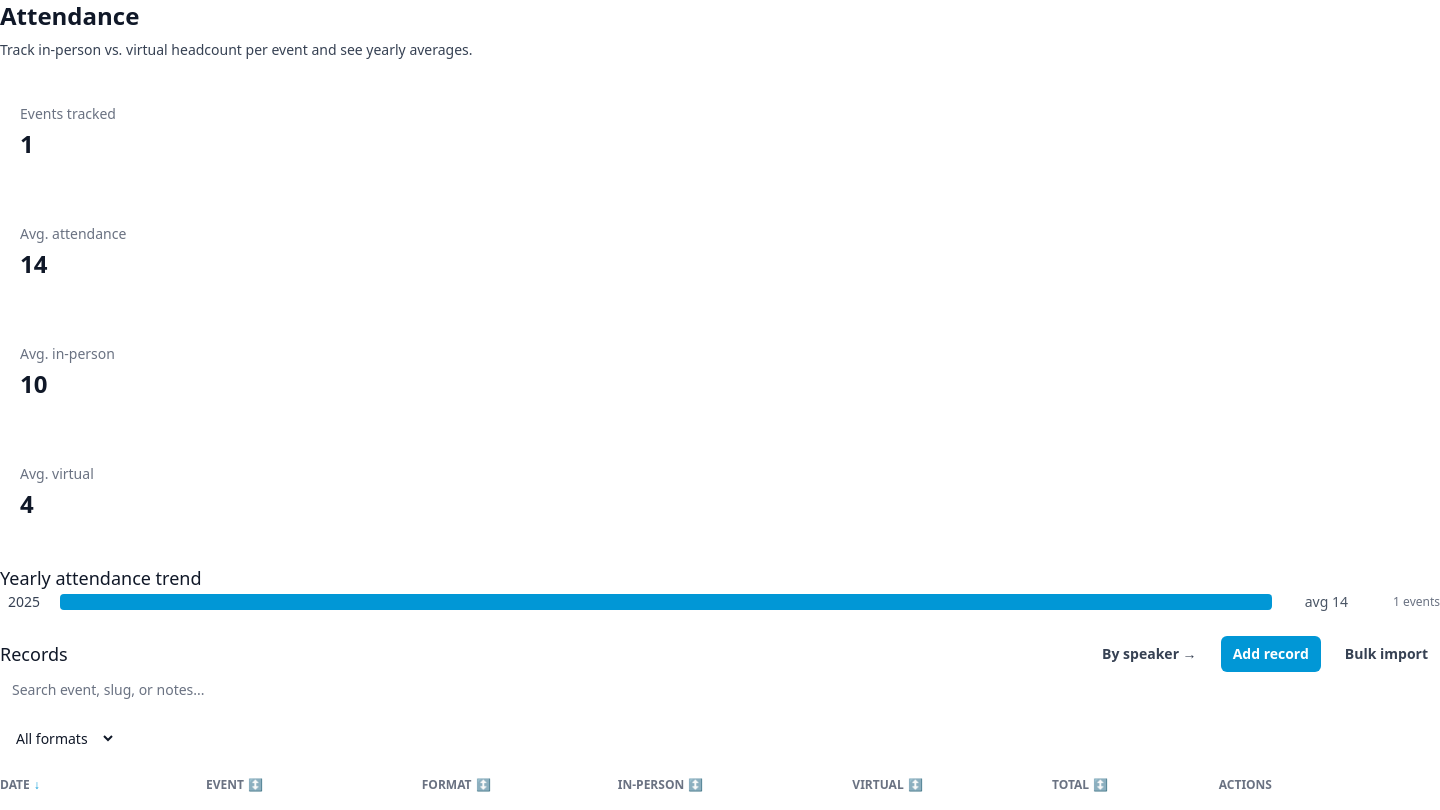
Test case: AttendancePage (admin) › closes the modal without saving when its close button is clicked
What coordinates should you click on to do the following:
click the button "Add record"
I would click on:
 (1271, 654)
Its box is [1221,636,1321,672].
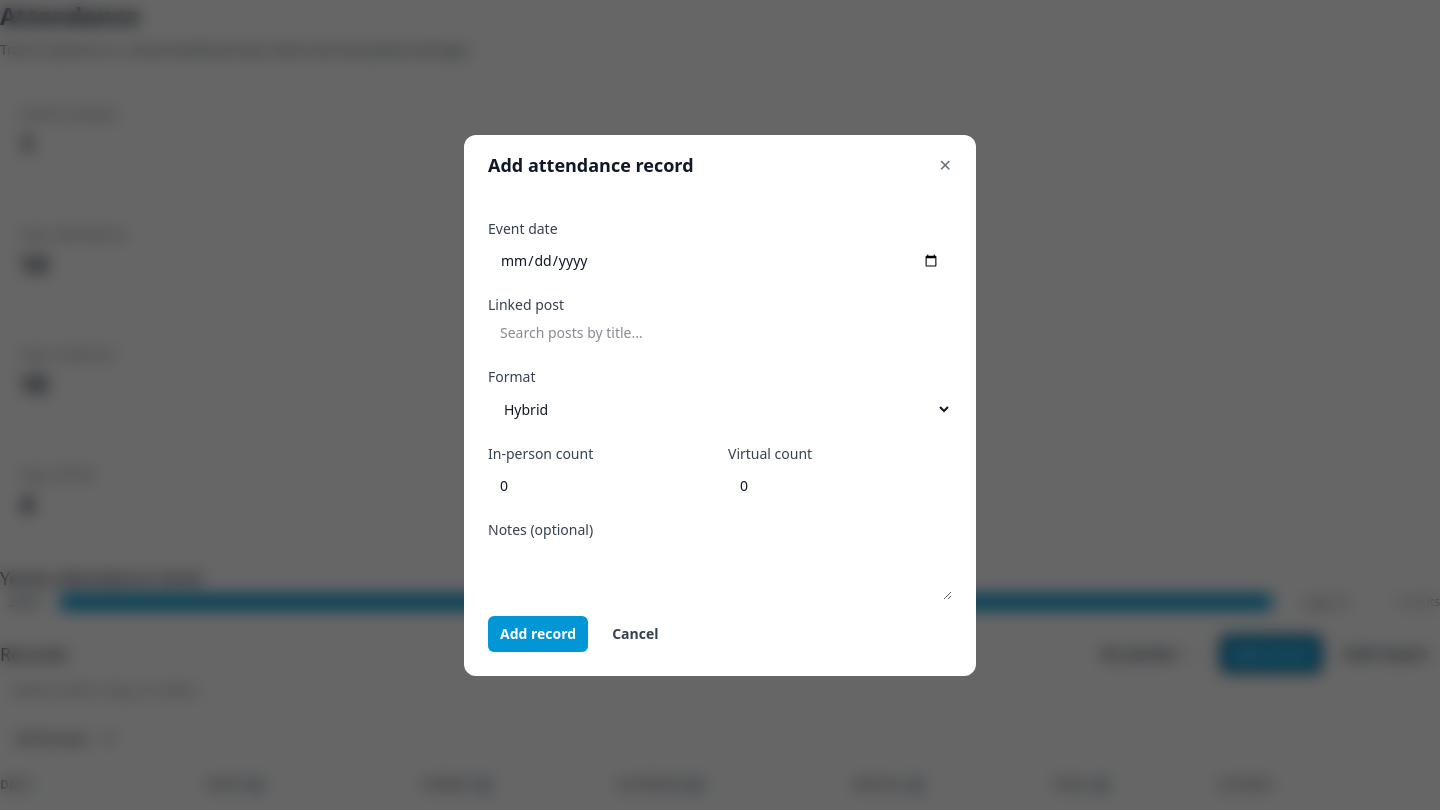
Result: the heading "Add attendance record" is shown at [488,150,694,178]
What coordinates should you click on to do the following:
click the button named "Close"
I would click on:
 (945, 164)
Its box is [939,152,952,176].
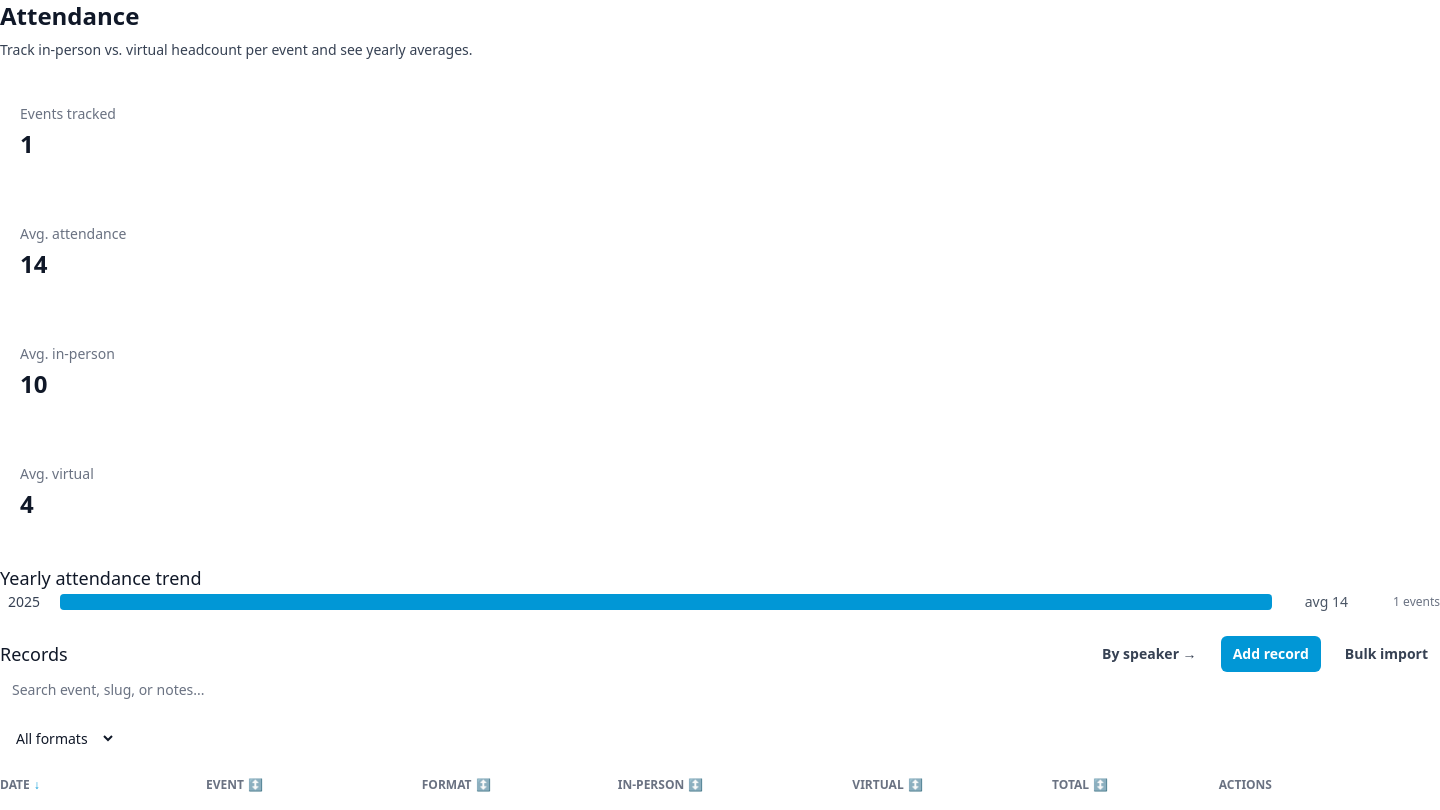
Result: the heading "Add attendance record" is gone
